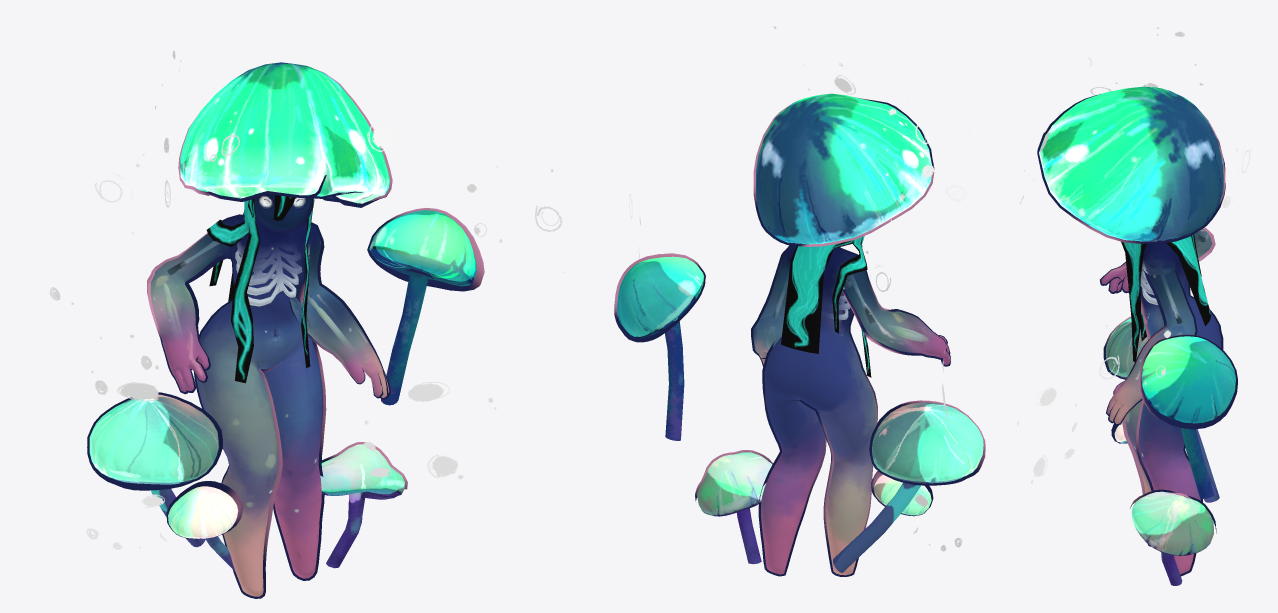
The model's file is mycena.glb.
3 renders of one model, left to right at view 1: azimuth 30°, elevation 25°; view 2: azimuth 150°, elevation 25°; view 3: azimuth 270°, elevation 25°, orthographic. The views are drawn at different scales.
Visible parts, largest first — view 1: Object_5, Object_2, Object_6, Object_4, Object_7, Object_3; view 2: Object_5, Object_2, Object_6, Object_4, Object_7, Object_3; view 3: Object_5, Object_2, Object_6, Object_4, Object_7, Object_3.
Part boxes in pixels (x1,y1,x2,y2): Object_5: [89, 62, 476, 571]; Object_2: [150, 194, 389, 596]; Object_6: [87, 69, 484, 598]; Object_4: [206, 195, 313, 383]; Object_7: [49, 50, 564, 549]; Object_3: [163, 241, 349, 344]; Object_5: [617, 93, 983, 572]; Object_2: [753, 245, 949, 575]; Object_6: [614, 97, 985, 576]; Object_4: [781, 236, 871, 377]; Object_7: [629, 26, 971, 551]; Object_3: [766, 276, 928, 348]; Object_5: [1039, 86, 1235, 585]; Object_2: [1101, 228, 1221, 574]; Object_6: [1037, 94, 1237, 576]; Object_4: [1121, 234, 1211, 362]; Object_7: [1015, 27, 1250, 483]; Object_3: [1140, 234, 1205, 334].
Size of the model in its own units: 5.43 by 6.37 by 2.84.
Materials: 6 (6 with a texture image).
